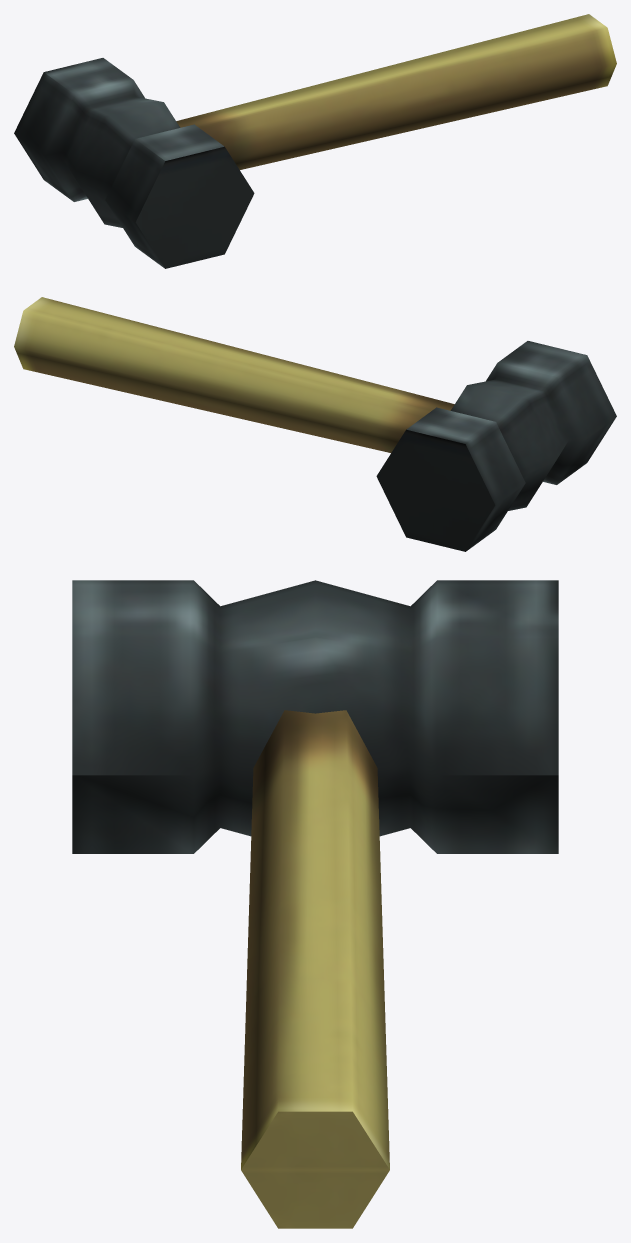
The model's file is G_DanShenHan_fuzi_01.FBX.
3 renders of one model, top to bottom at view 1: azimuth 30°, elevation 25°; view 2: azimuth 150°, elevation 25°; view 3: azimuth 270°, elevation 25°, orthographic. The views are drawn at different scales.
Visible parts, largest first — view 1: DanShenHan_fuzi_01; view 2: DanShenHan_fuzi_01; view 3: DanShenHan_fuzi_01.
Boxes of the visible parts, box(x1,y1,x2,y2) form: DanShenHan_fuzi_01: box(14, 14, 616, 268); DanShenHan_fuzi_01: box(14, 297, 616, 551); DanShenHan_fuzi_01: box(72, 580, 558, 1228).
Size of the model in its own units: 50.76 by 9.99 by 20.42.
